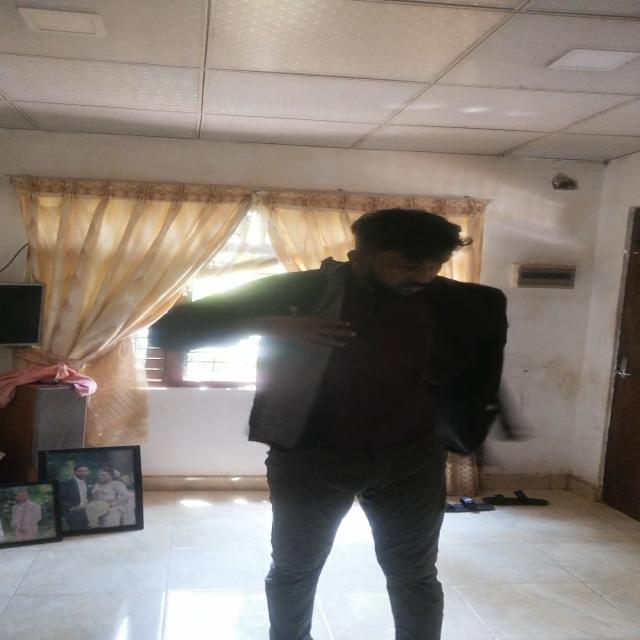Jacket_Wearer: (156, 252, 520, 486)
Person: (194, 199, 502, 640)
